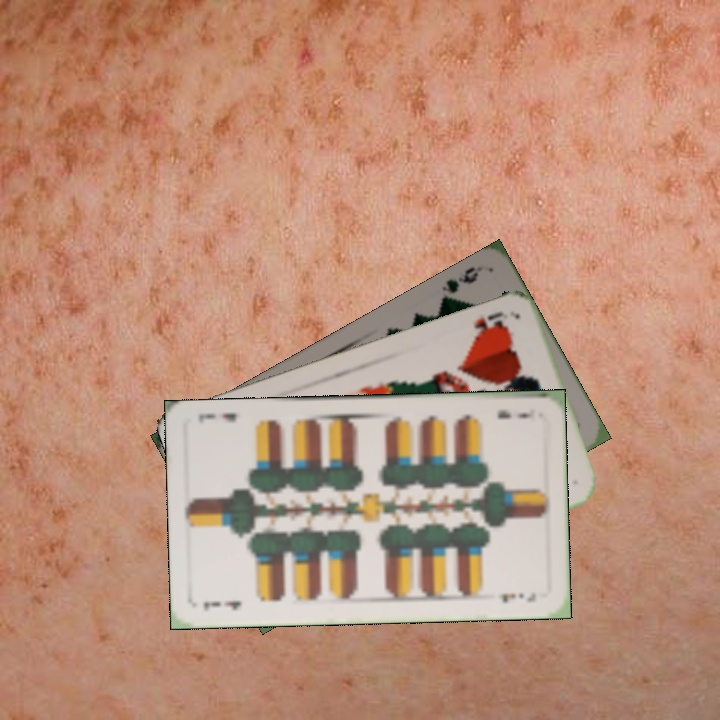E7: (493, 404, 538, 422), (199, 596, 244, 614)
G9: (436, 262, 481, 305)
HO: (469, 307, 511, 339)
